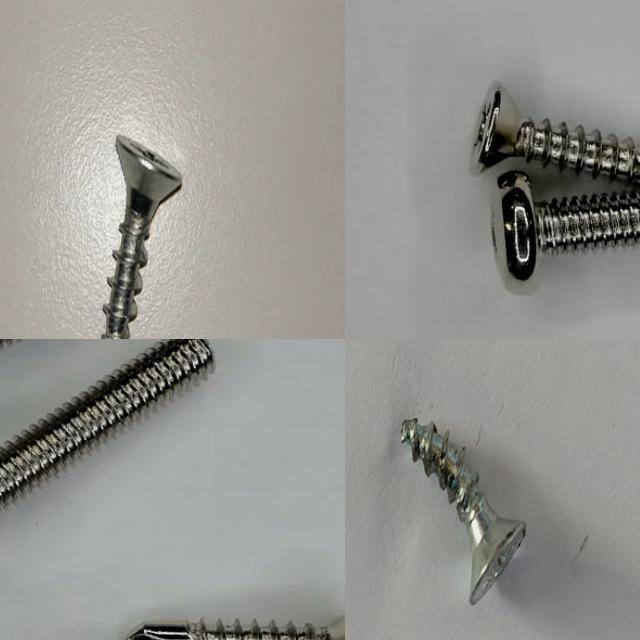Screw: (0, 339, 213, 511), (401, 417, 526, 604), (492, 172, 640, 294), (472, 83, 640, 185), (101, 134, 182, 339), (129, 616, 345, 640)
